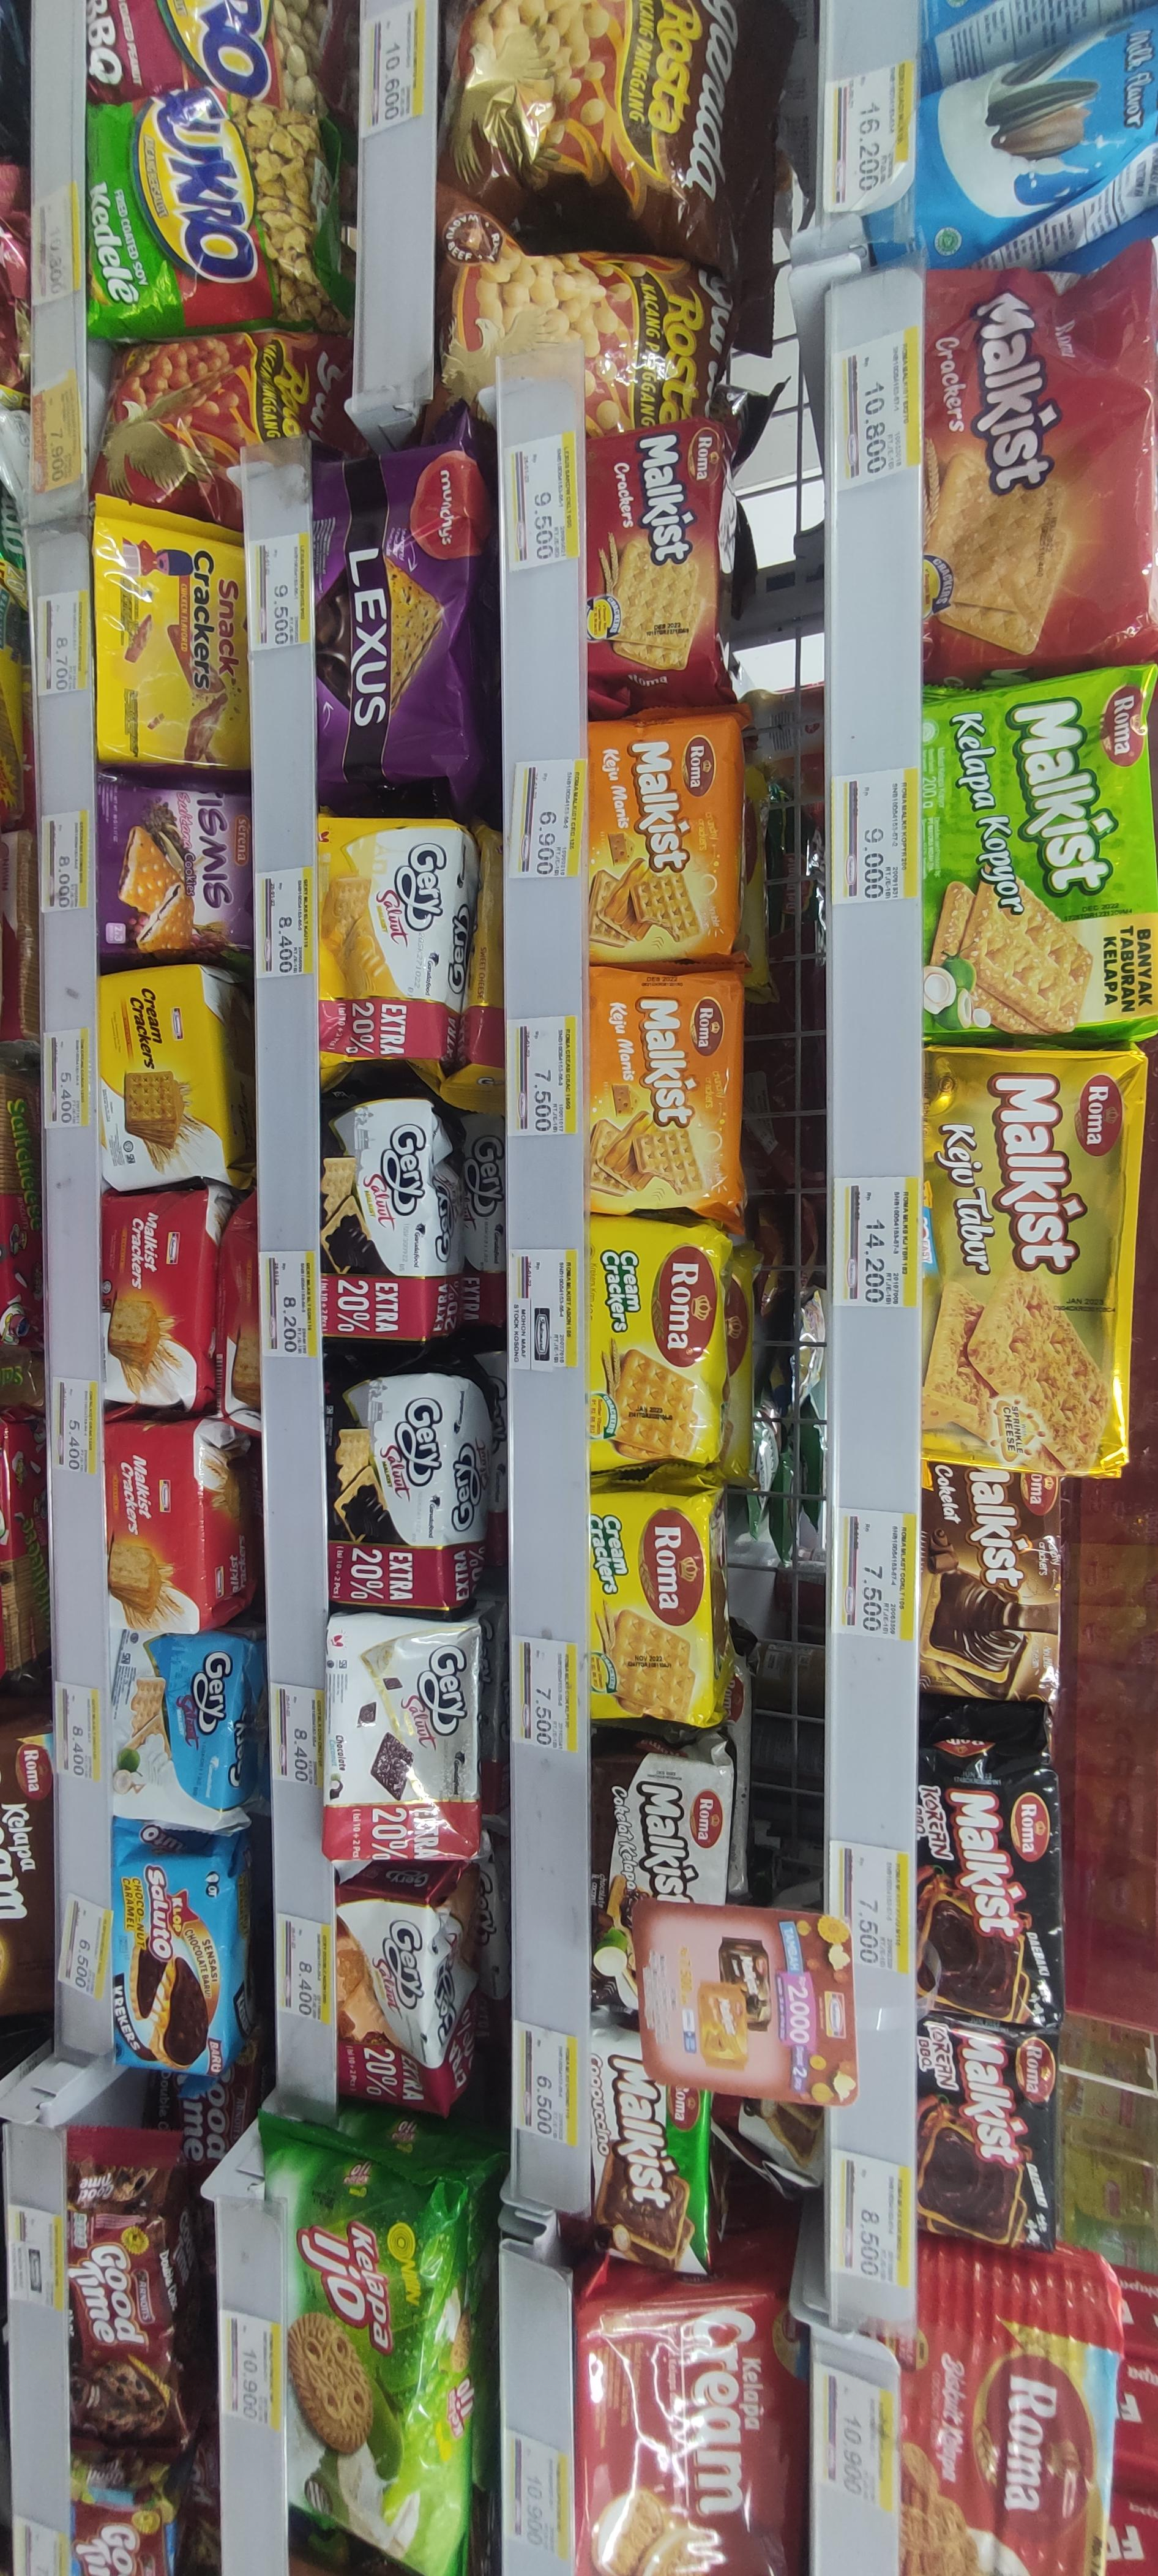90101111611100: (95, 334, 353, 493)
90101111615100: (439, 0, 772, 219), (435, 235, 728, 421), (434, 233, 726, 419)
90101225202101: (320, 1097, 455, 1341), (324, 1372, 452, 1612)
90101225205101: (315, 816, 468, 1061)
90101225209100: (108, 1633, 238, 1829)
90101225218101: (325, 1613, 481, 1860)
90101225226101: (333, 1884, 434, 2108)
ArnottsGoodTime: (67, 2160, 184, 2441)
DuaKelinciSukroKacangBersalut: (85, 92, 347, 337)
IndomaretMalkistCrackers: (100, 1189, 204, 1405), (103, 1419, 204, 1633)
IndomaretMalkistCreamCrackers: (99, 966, 225, 1186)
KlopSalutoChocoNutCaramel: (110, 1856, 228, 2075)
MunchysLexus: (315, 442, 473, 789)
NissinBiskuitKelapaIjo: (287, 2157, 465, 2576)
RomaMalkistCappucino: (590, 2088, 711, 2279)
RomaMalkistCokelat: (921, 1460, 1058, 1702)
RomaMalkistCrackers: (925, 258, 1158, 654), (586, 416, 723, 688)
RomaMalkistCreamCrackers: (586, 1216, 728, 1470), (588, 1492, 719, 1728)
RomaMalkistKejuManis: (588, 713, 742, 958), (588, 968, 741, 1211)
RomaMalkistKejuTabur: (923, 1050, 1142, 1474)
RomaMalkistKelapaKopyor: (923, 682, 1158, 1030)
RomaMalkistKoreanBBQ: (917, 1751, 1063, 2021), (915, 2021, 1055, 2254)
SerenaKismisSultanaCookies: (94, 777, 250, 958)
SerenaSnackCrackersChickenFlavored: (92, 516, 251, 769)
